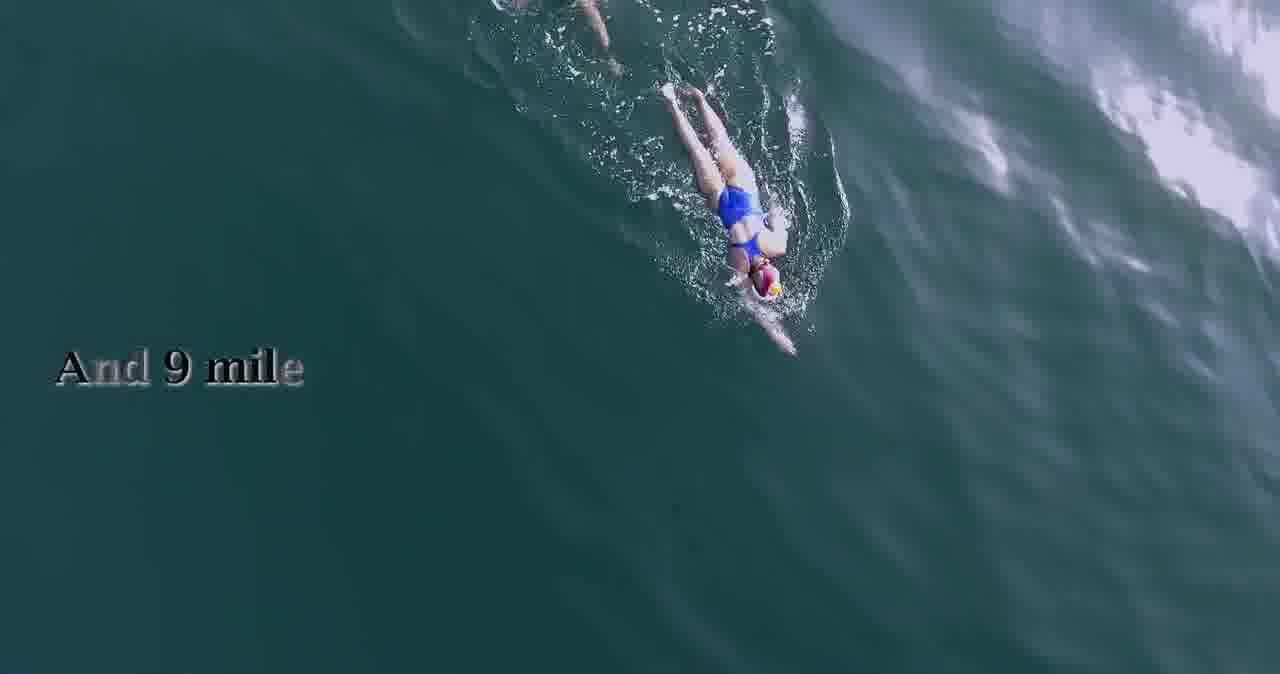human: (654, 62, 849, 352)
